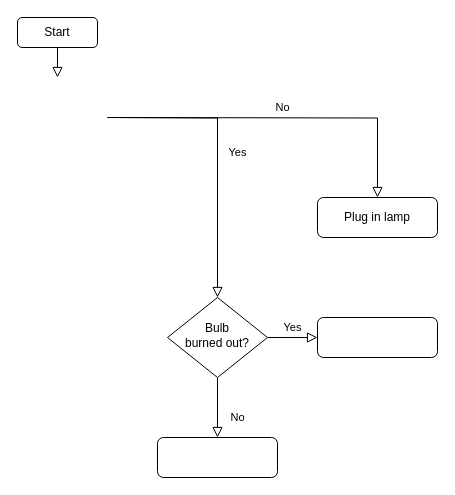
The diagram is 455 pixels wide and 495 high, and some of its shapes have lost their labels. Here are the shapes that lost their labels. From the top down, the centre of each, then its label:
At point 377,337: "Replace Bulb".
At point 217,457: "Repair Lamp".
